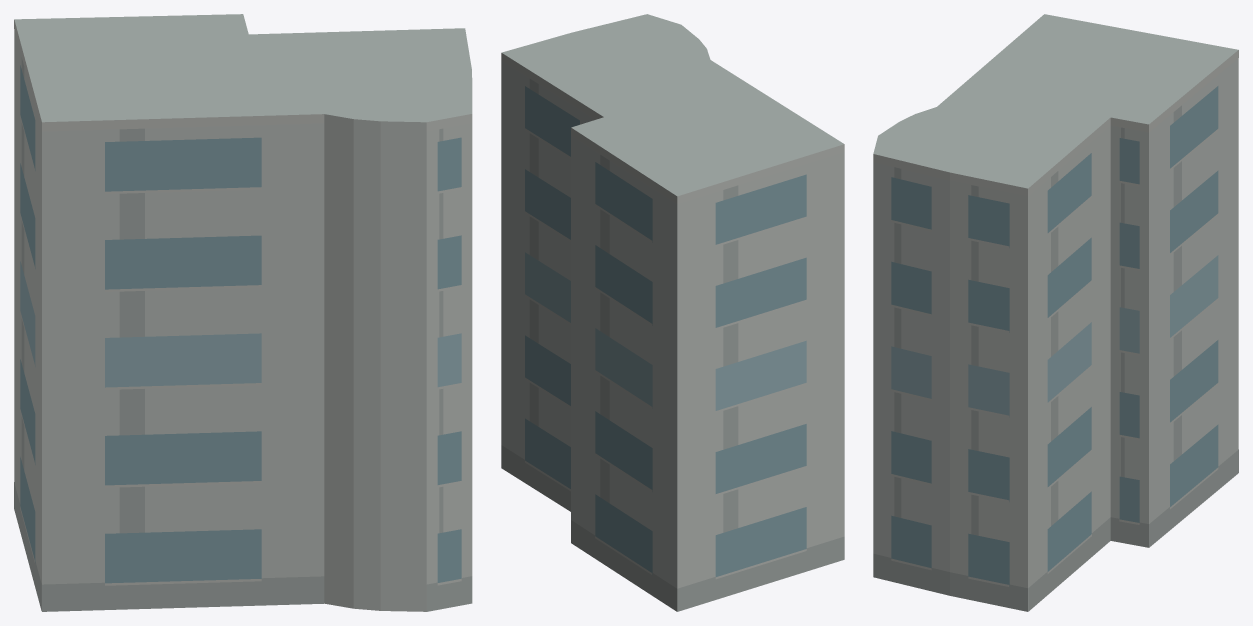
File: survey-upis-32729601.glb
The picture shows the model from 3 angles, left to right: view 1: azimuth 30°, elevation 25°; view 2: azimuth 150°, elevation 25°; view 3: azimuth 270°, elevation 25°; orthographic projection. The views are drawn at different scales.
Parts seen in each view (by area): view 1: survey-upis-32729601.tmp; view 2: survey-upis-32729601.tmp; view 3: survey-upis-32729601.tmp.
Boxes of the visible parts, box(x1,y1,x2,y2) form: survey-upis-32729601.tmp: box(14, 14, 472, 611); survey-upis-32729601.tmp: box(501, 14, 844, 611); survey-upis-32729601.tmp: box(873, 14, 1238, 611).
Size of the model in its own units: 11.24 by 12.7 by 9.95.
